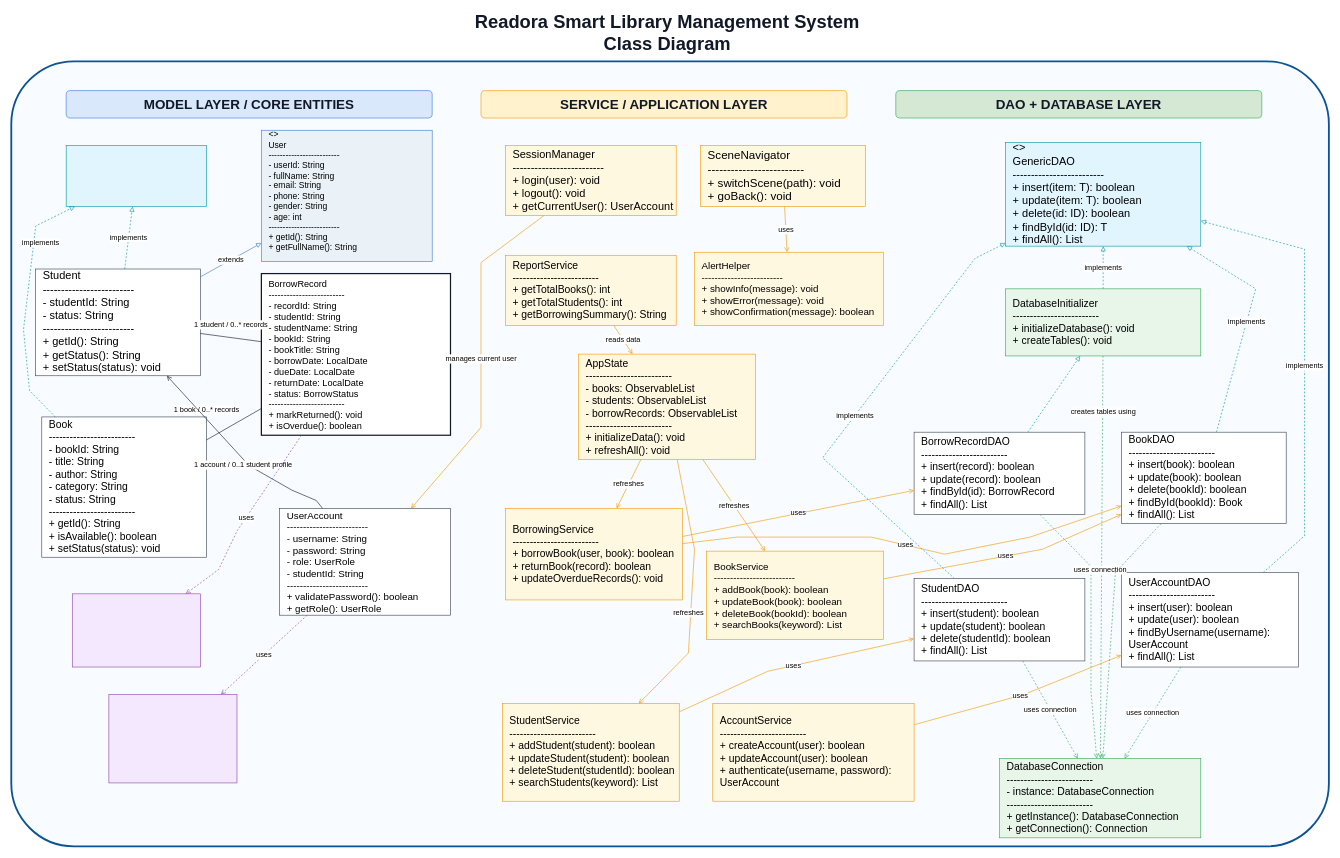
Image size: 1340x858. Some labels were removed from this diagram. The shapes that lost their labels are listed below. From the top down, each one's centre as x and y in pixels, then its label:
At [136,175]: "<> Identifiable ------------------------- + getId(): T".
At [136,630]: "<> BorrowStatus ------------------------- BORROWED RETURNED OVERDUE".
At [172,738]: "<> UserRole ------------------------- ADMIN LIBRARIAN STUDENT".
